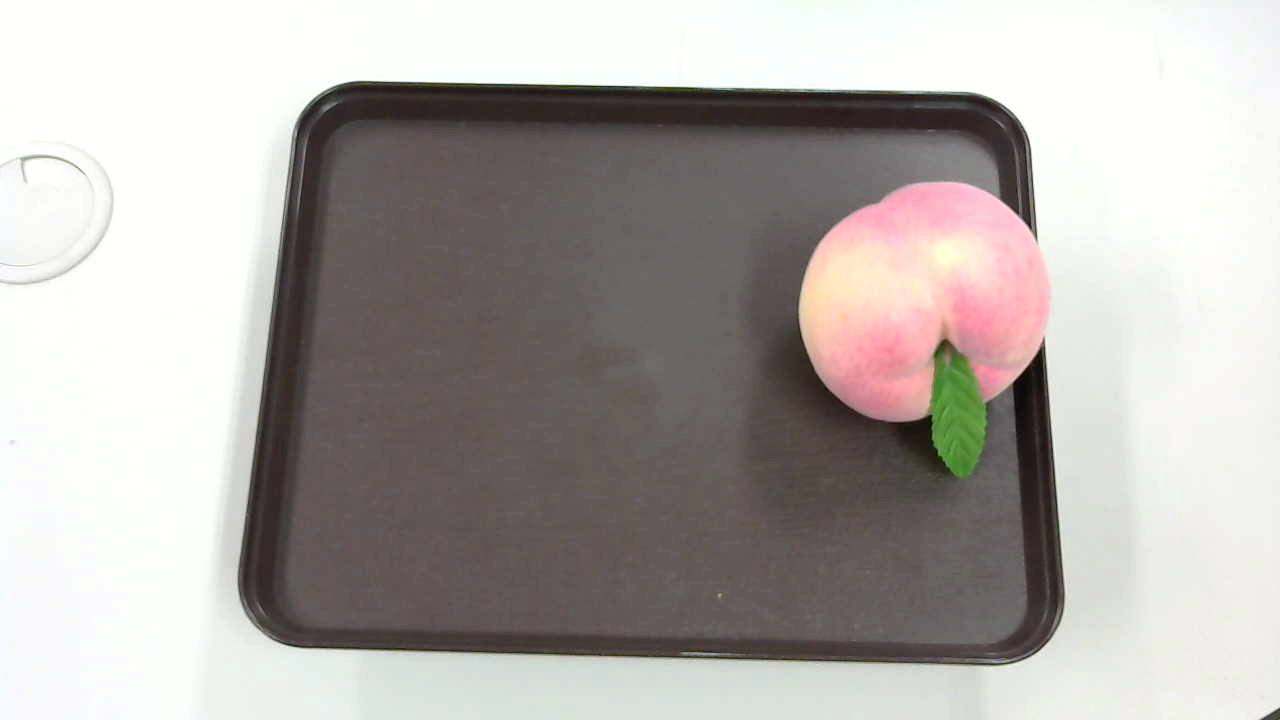peach: (796, 181, 1062, 478)
